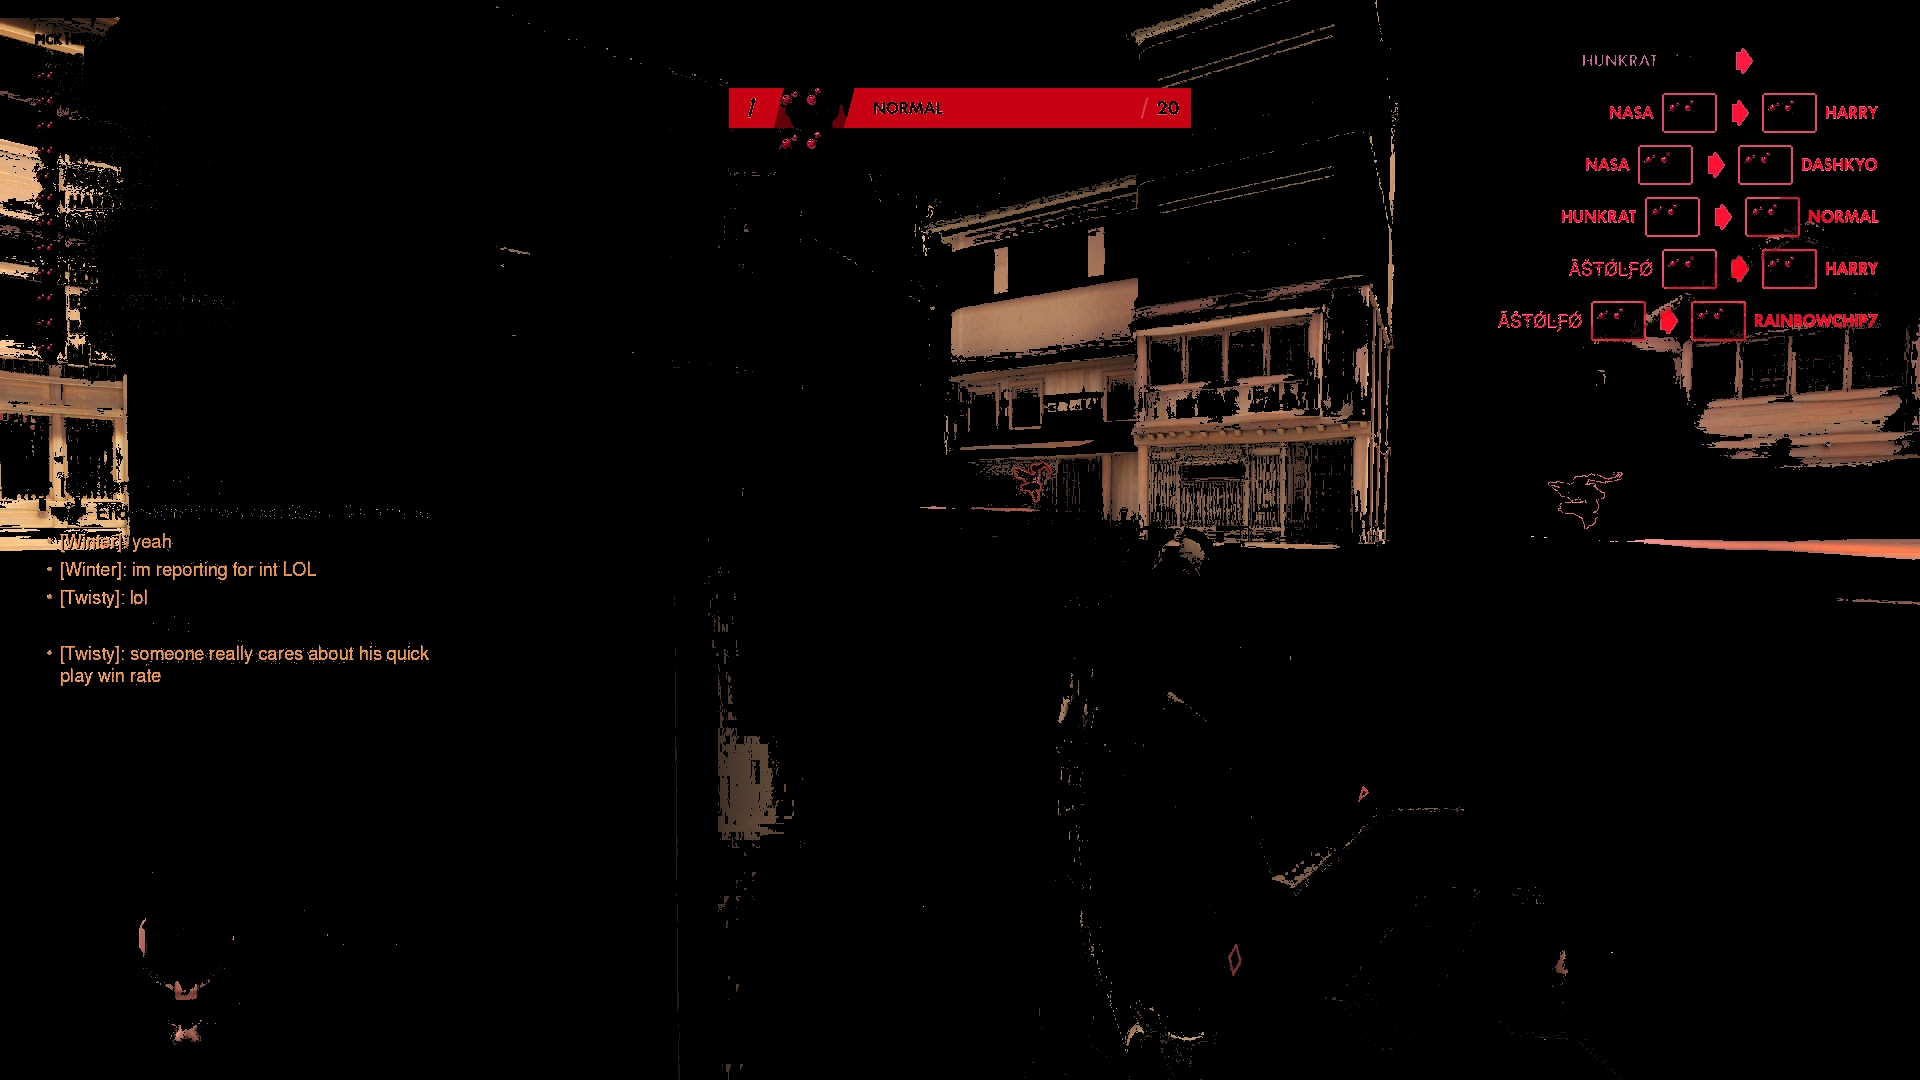widowmaker: (1545, 469, 1609, 529), (1015, 462, 1052, 508)
